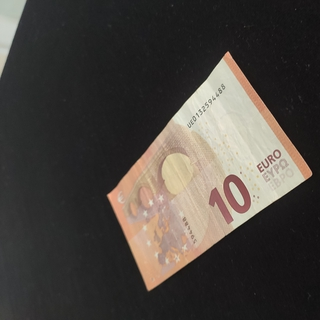10EUROBack: (105, 50, 313, 291)
